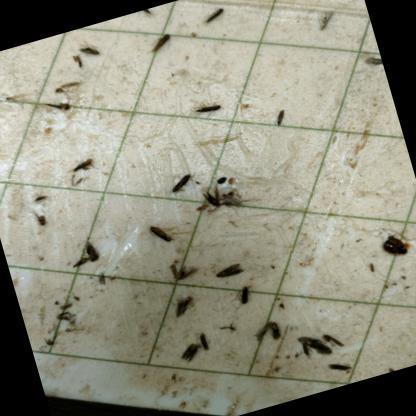prays_oleae: (174, 324, 220, 373), (186, 90, 245, 128), (166, 288, 202, 332), (69, 235, 110, 272), (212, 260, 256, 292), (362, 45, 390, 95), (137, 31, 180, 61), (195, 0, 240, 28), (146, 214, 180, 251), (220, 182, 251, 219), (165, 165, 196, 197), (200, 183, 225, 221), (167, 260, 199, 288), (69, 156, 102, 182), (230, 279, 256, 312), (266, 104, 296, 132), (76, 37, 105, 64), (132, 7, 158, 24)
